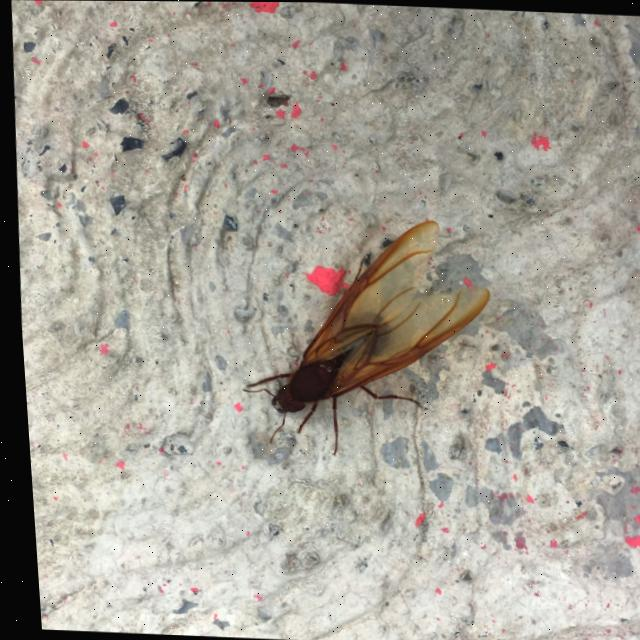Alive-Female-Alate: (224, 212, 497, 462)
